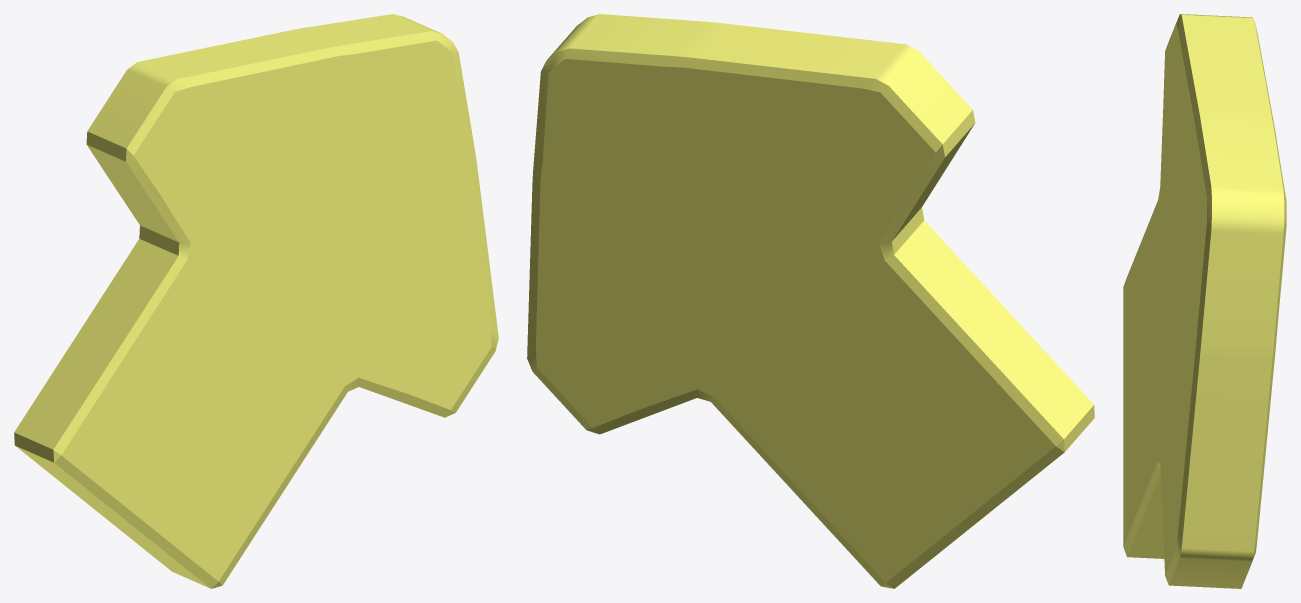
Rendered from click.gltf.
3 renders of one model, left to right at view 1: azimuth 30°, elevation 25°; view 2: azimuth 150°, elevation 25°; view 3: azimuth 270°, elevation 25°, orthographic. The views are drawn at different scales.
Parts seen in each view (by area): view 1: pCube1; view 2: pCube1; view 3: pCube1.
Part boxes in pixels (box(x1,y1,x2,y2)): pCube1: box(14, 14, 498, 588); pCube1: box(527, 14, 1094, 588); pCube1: box(1123, 14, 1286, 588).
Bounding box in the file's own units: 2.32 × 2.32 × 0.638.
